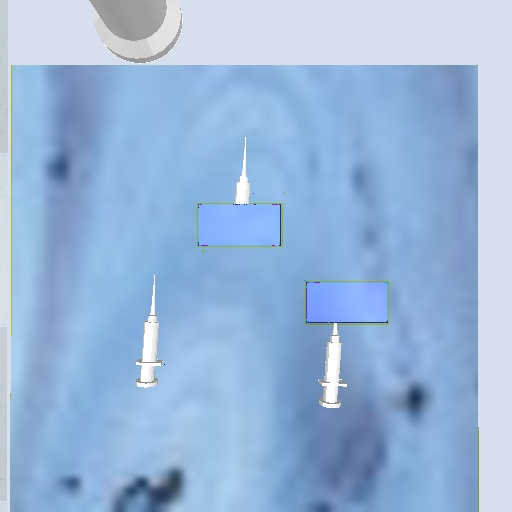jeringuilla: (130, 270, 169, 392), (312, 322, 353, 412), (230, 134, 256, 204)
